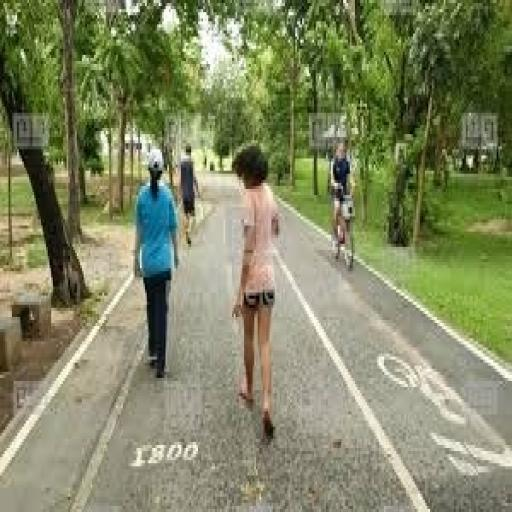running: (229, 140, 283, 442), (130, 143, 182, 381)
